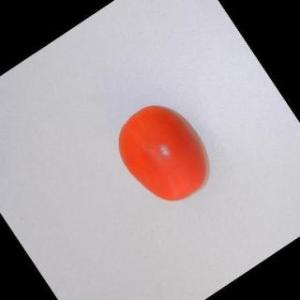tomato: (108, 98, 220, 212)
